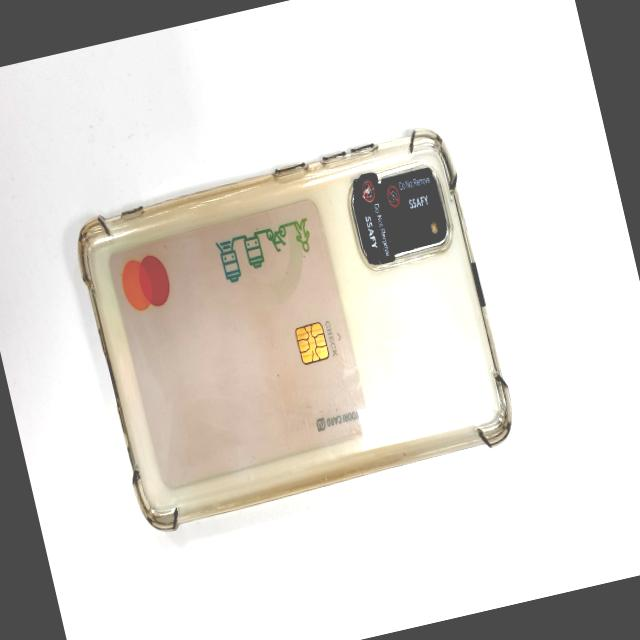phone: (66, 121, 519, 530)
removed_sticker: (349, 175, 394, 262)
sticker: (379, 168, 438, 222)
